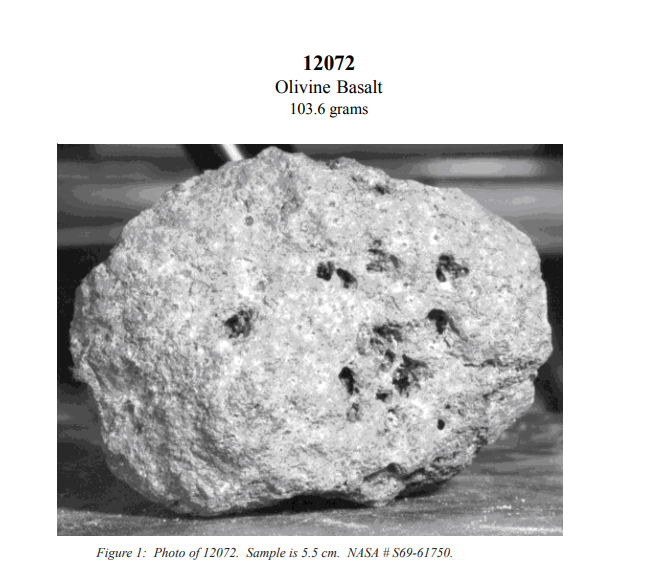Basalt: (53, 153, 560, 500), (169, 221, 505, 418)
